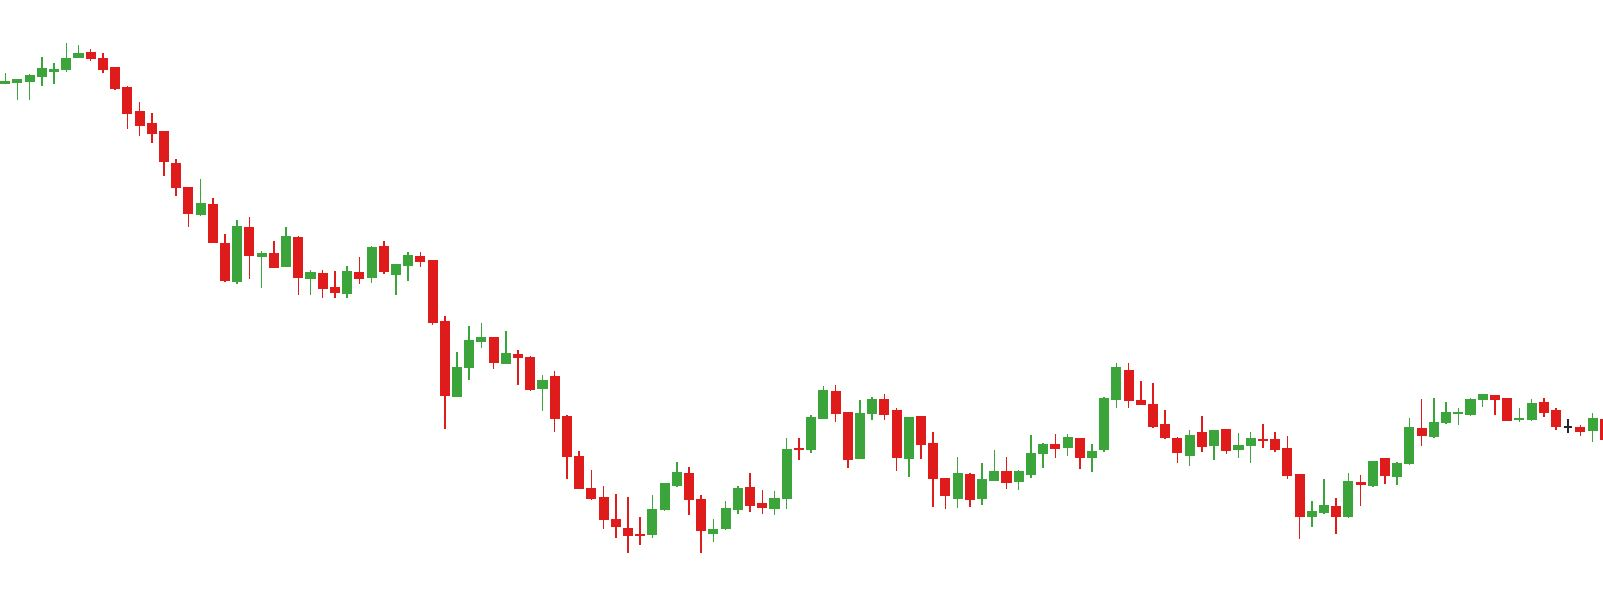buy: (621, 482, 718, 561)
sell: (816, 364, 1137, 449)
